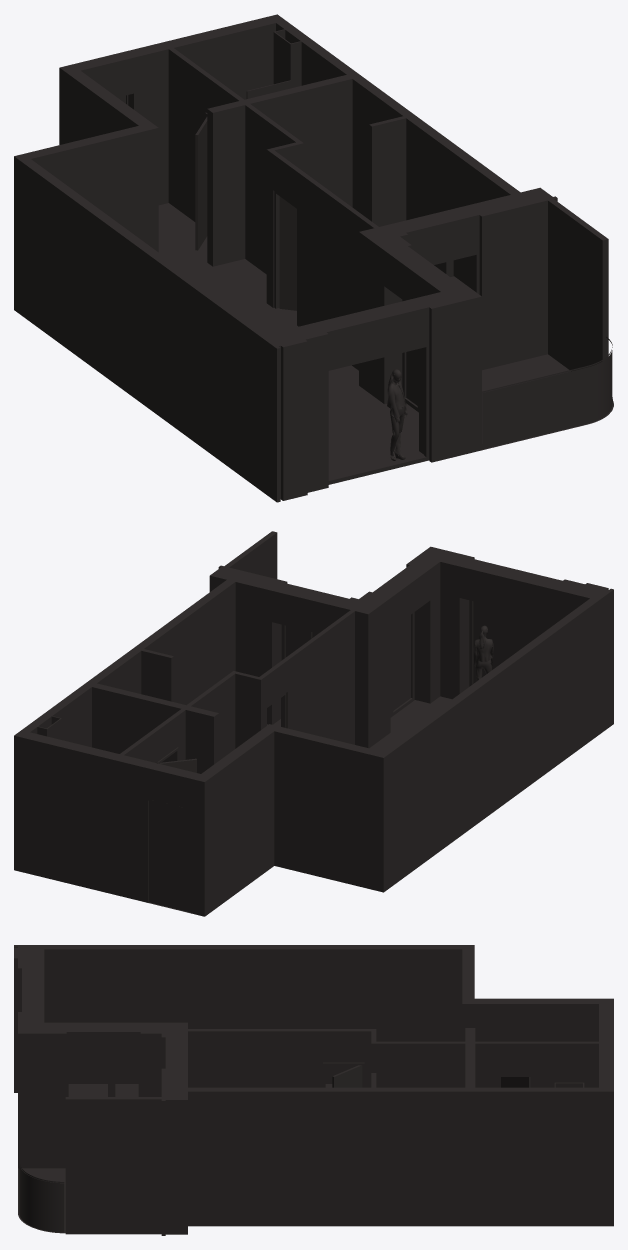
The model's file is 7407601ea7-apartment_a_024_draco-decoded.glb.
The picture shows the model from 3 angles, top to bottom: view 1: azimuth 30°, elevation 25°; view 2: azimuth 150°, elevation 25°; view 3: azimuth 270°, elevation 25°; orthographic projection. The views are drawn at different scales.
Visible parts, largest first — view 1: apartment_a_024, APTGLAZ; view 2: apartment_a_024, APTGLAZ; view 3: apartment_a_024, APTGLAZ.
Part boxes in pixels (bbox=[...]): apartment_a_024: bbox=[14, 14, 613, 502]; APTGLAZ: bbox=[246, 80, 612, 449]; apartment_a_024: bbox=[14, 531, 613, 916]; APTGLAZ: bbox=[285, 601, 553, 710]; apartment_a_024: bbox=[14, 945, 613, 1235]; APTGLAZ: bbox=[19, 1164, 64, 1232].
Bounding box in the file's own units: 7.45 × 3 × 12.11.
Materials: 1 (1 with a texture image).
